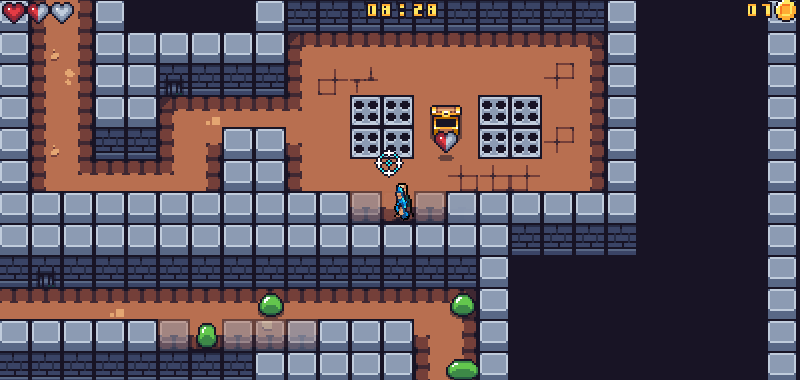enemy_slug: (448, 289, 478, 322), (444, 353, 481, 379), (255, 289, 285, 316), (193, 320, 219, 351)
trap_off: (349, 94, 413, 159), (477, 94, 541, 159)
treasury_open: (428, 102, 463, 142)
